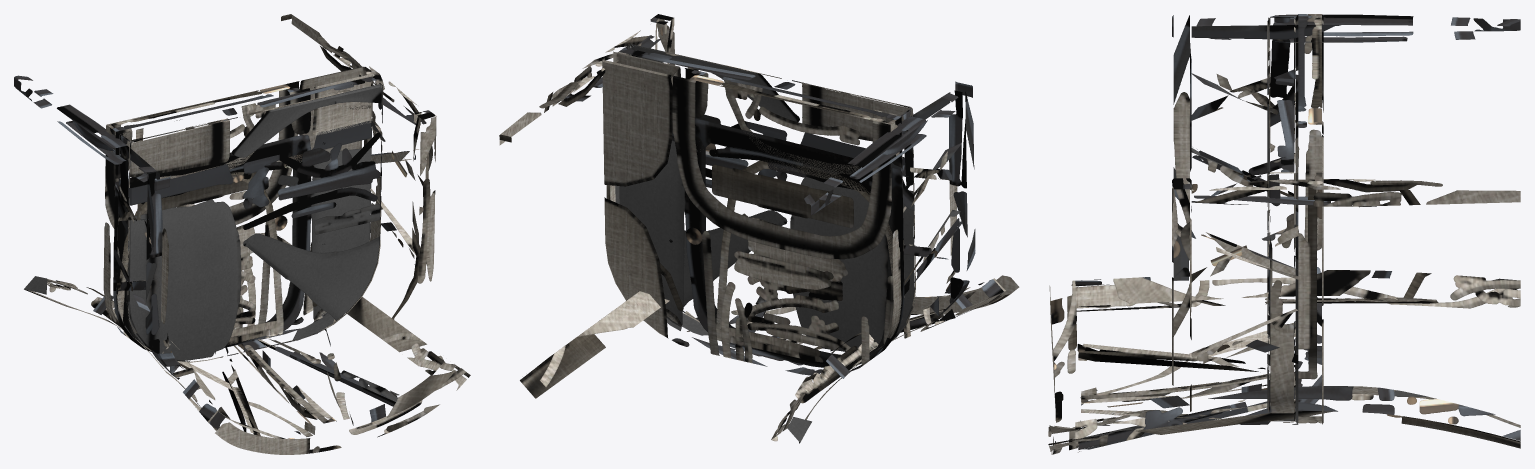
The picture shows the model from 3 angles, left to right: view 1: azimuth 30°, elevation 25°; view 2: azimuth 150°, elevation 25°; view 3: azimuth 270°, elevation 25°; orthographic projection. The views are drawn at different scales.
Bounding box in the file's own units: 0.5712 × 0.5249 × 0.6735.
